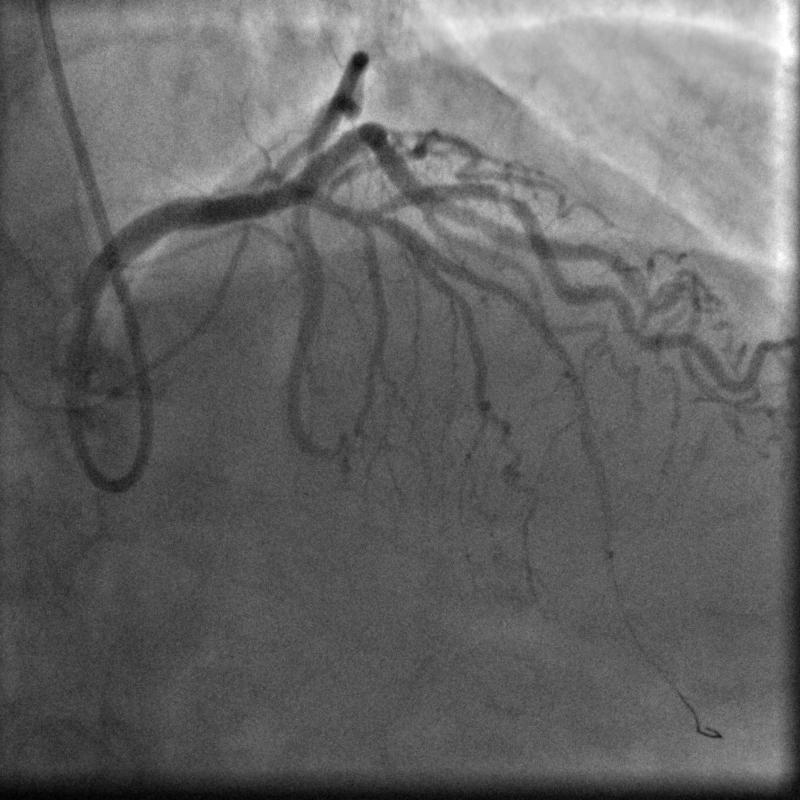Stenosis: (482, 177, 521, 215)
